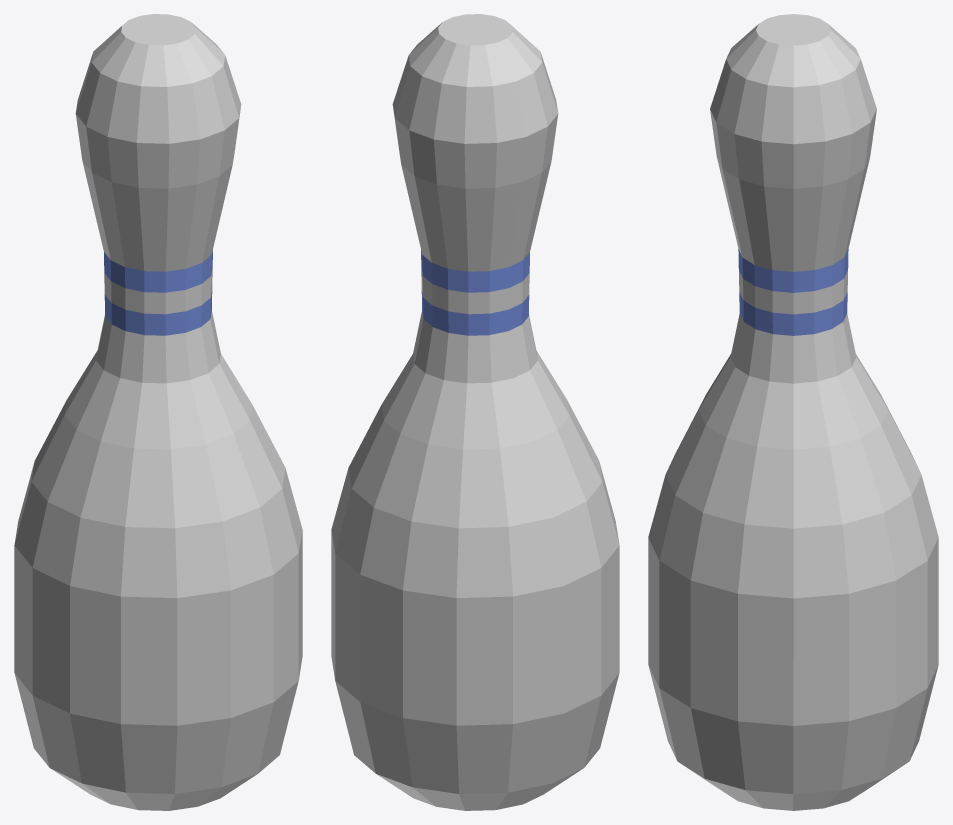
The model's file is bolo.fbx.
3 renders of one model, left to right at view 1: azimuth 30°, elevation 25°; view 2: azimuth 150°, elevation 25°; view 3: azimuth 270°, elevation 25°, orthographic.
Parts seen in each view (by area): view 1: Bolo; view 2: Bolo; view 3: Bolo.
Boxes of the visible parts, x1=… form: Bolo: x1=14, y1=14, x2=302, y2=810; Bolo: x1=331, y1=14, x2=619, y2=810; Bolo: x1=648, y1=14, x2=938, y2=810.
Bounding box in the file's own units: 228 × 647 × 228.
